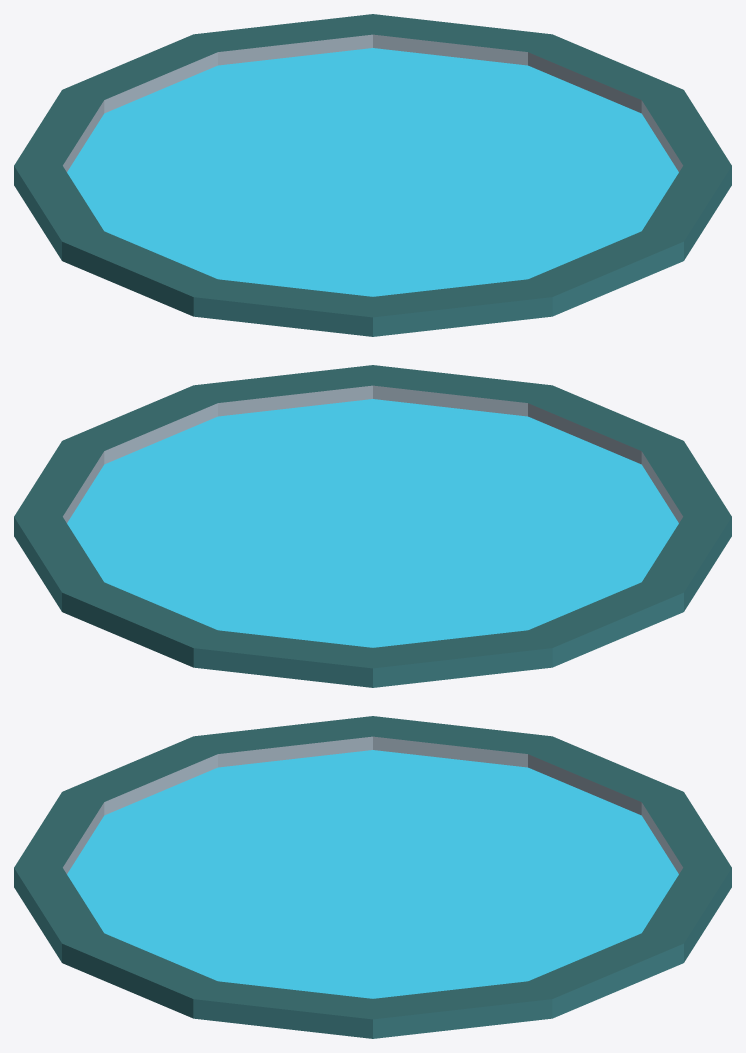
File: Pool_B.fbx
3 views of the same model, one above another, from view 1: azimuth 30°, elevation 25°; view 2: azimuth 150°, elevation 25°; view 3: azimuth 270°, elevation 25° (orthographic).
Parts seen in each view (by area): view 1: Pool_B; view 2: Pool_B; view 3: Pool_B.
Part boxes in pixels (x1,y1,x2,y2): Pool_B: (14, 14, 731, 336); Pool_B: (14, 365, 731, 687); Pool_B: (14, 716, 731, 1038).
Bounding box in the file's own units: 700 × 21 × 700.
